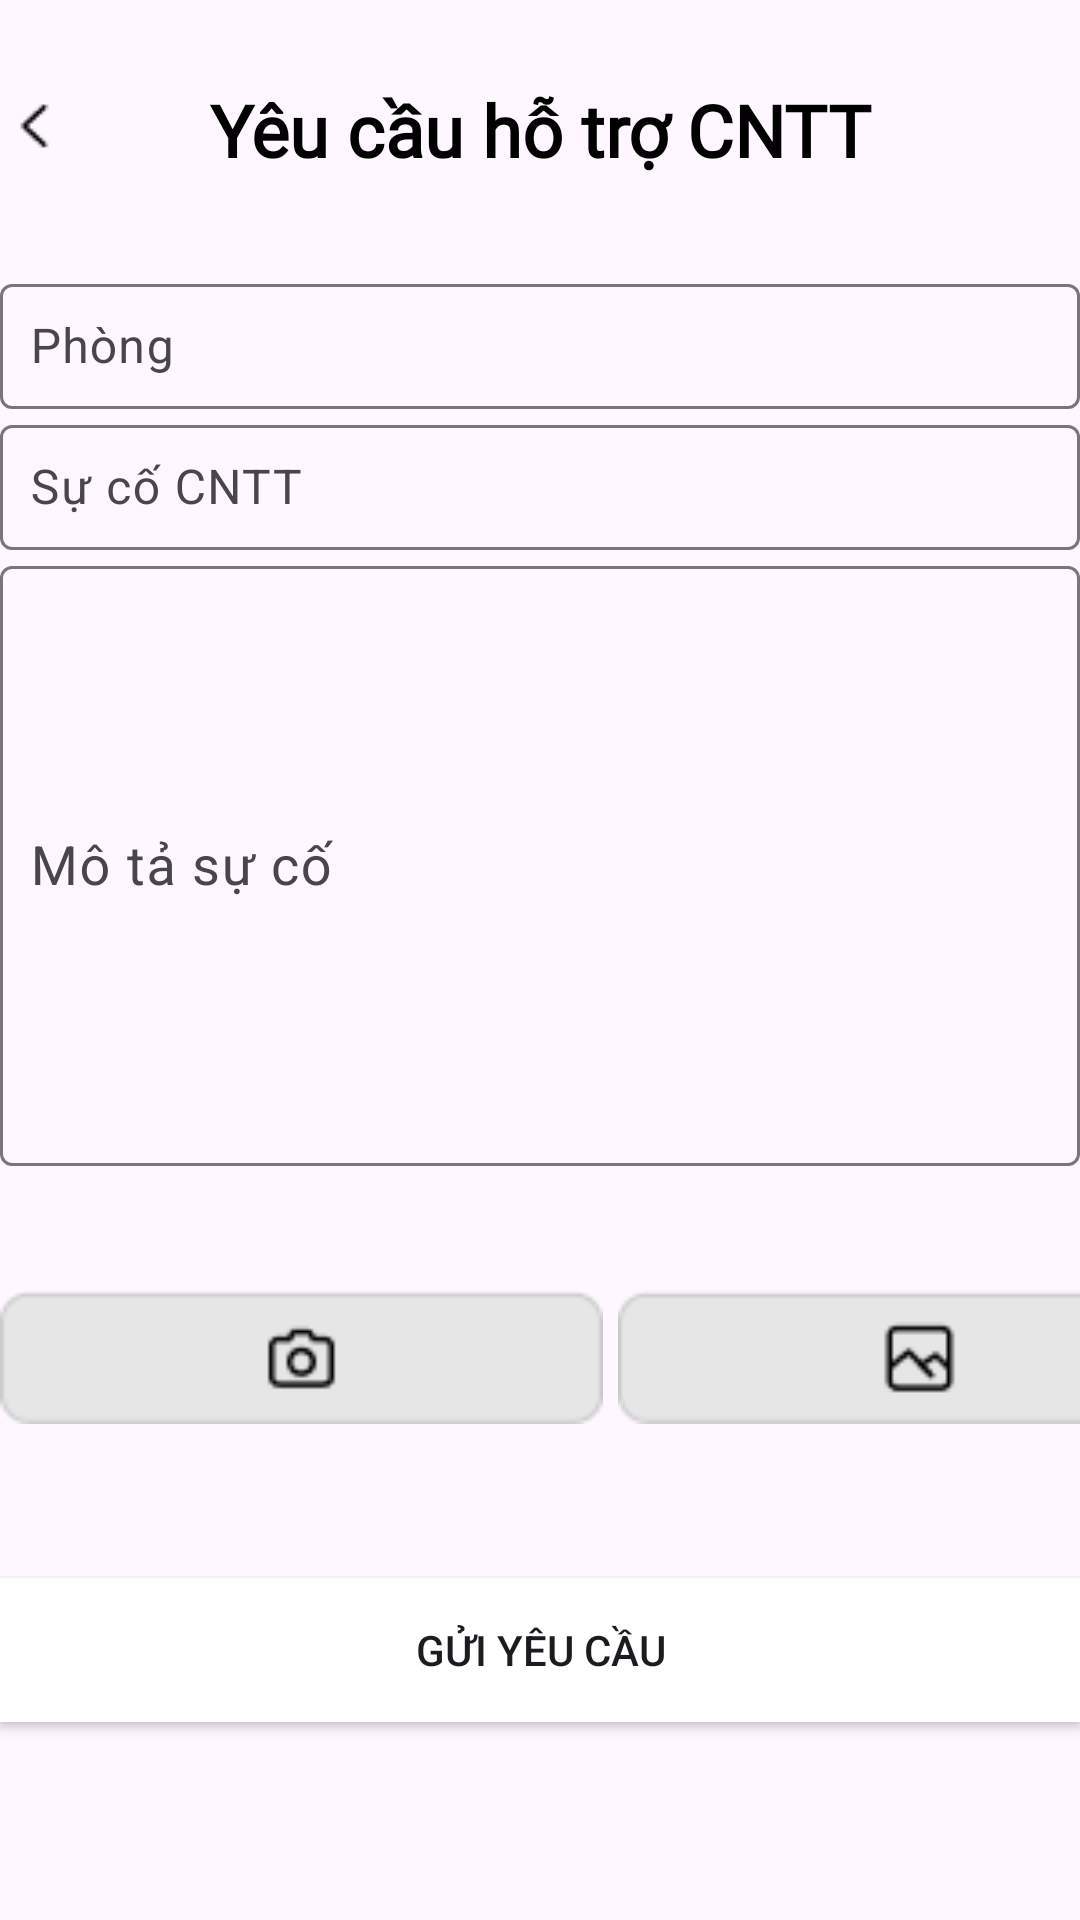

Icons on this 1080px×1920px Android screen, each with its box as region(x1, y1, x2, y2):
back: region(20, 104, 49, 148)
